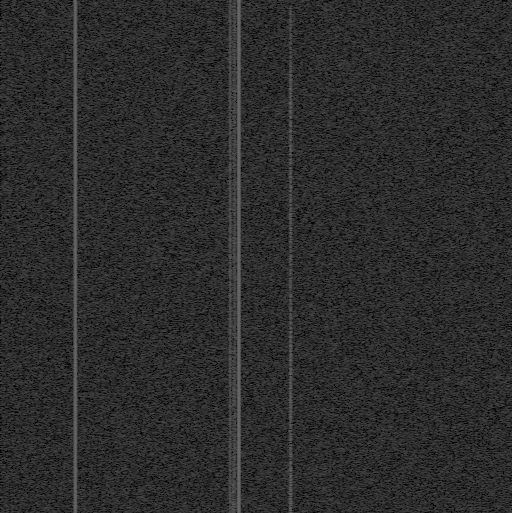wv_am: (228, 0, 233, 513), (232, 0, 237, 513)
wv_cw: (72, 0, 78, 513), (236, 0, 242, 513)
wv_usb: (288, 144, 294, 513), (288, 5, 293, 143), (231, 131, 236, 261), (231, 299, 236, 422), (231, 423, 236, 513), (231, 56, 236, 130), (231, 3, 236, 55), (231, 286, 235, 297), (231, 262, 235, 270), (231, 272, 235, 276), (232, 279, 235, 284)
